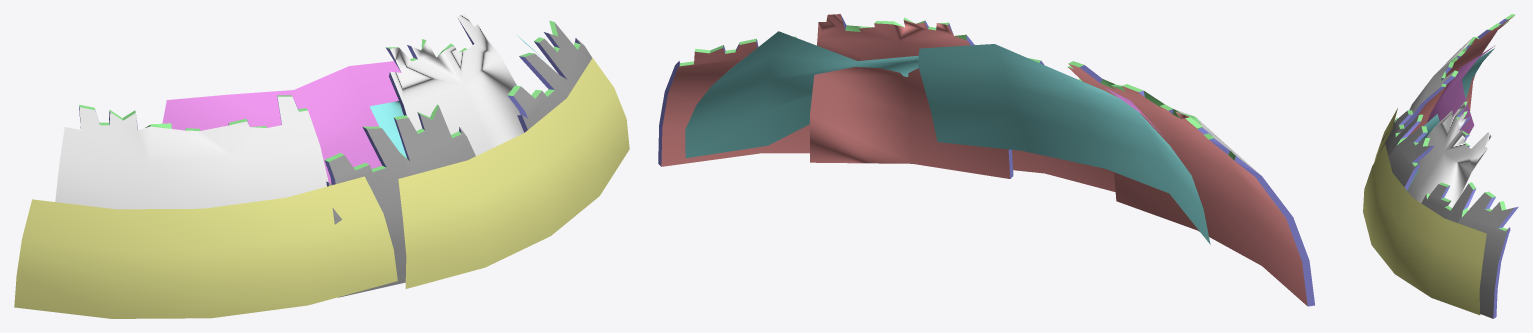
File: PM_Plain_SetOBJ_03.gltf
3 views of the same model, side by side, from view 1: azimuth 30°, elevation 25°; view 2: azimuth 150°, elevation 25°; view 3: azimuth 270°, elevation 25° (orthographic). The views are drawn at different scales.
Parts seen in each view (by area): view 1: PM_Plain_SetOBJ_03; view 2: PM_Plain_SetOBJ_03; view 3: PM_Plain_SetOBJ_03.
Boxes of the visible parts, left/top/right/bottom form: PM_Plain_SetOBJ_03: left=14, top=14, right=629, bottom=318; PM_Plain_SetOBJ_03: left=658, top=14, right=1314, bottom=306; PM_Plain_SetOBJ_03: left=1363, top=14, right=1518, bottom=318.
Bounding box in the file's own units: 4.85 × 1.35 × 1.45.
